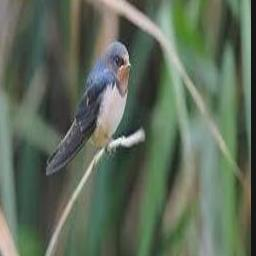Swallow: (43, 42, 130, 175)
